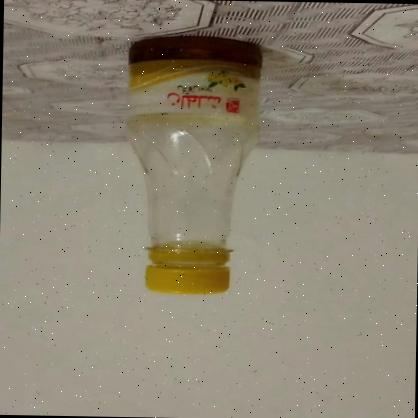bottle: (110, 32, 277, 306)
cap: (144, 243, 238, 299)
label: (128, 40, 262, 128)
